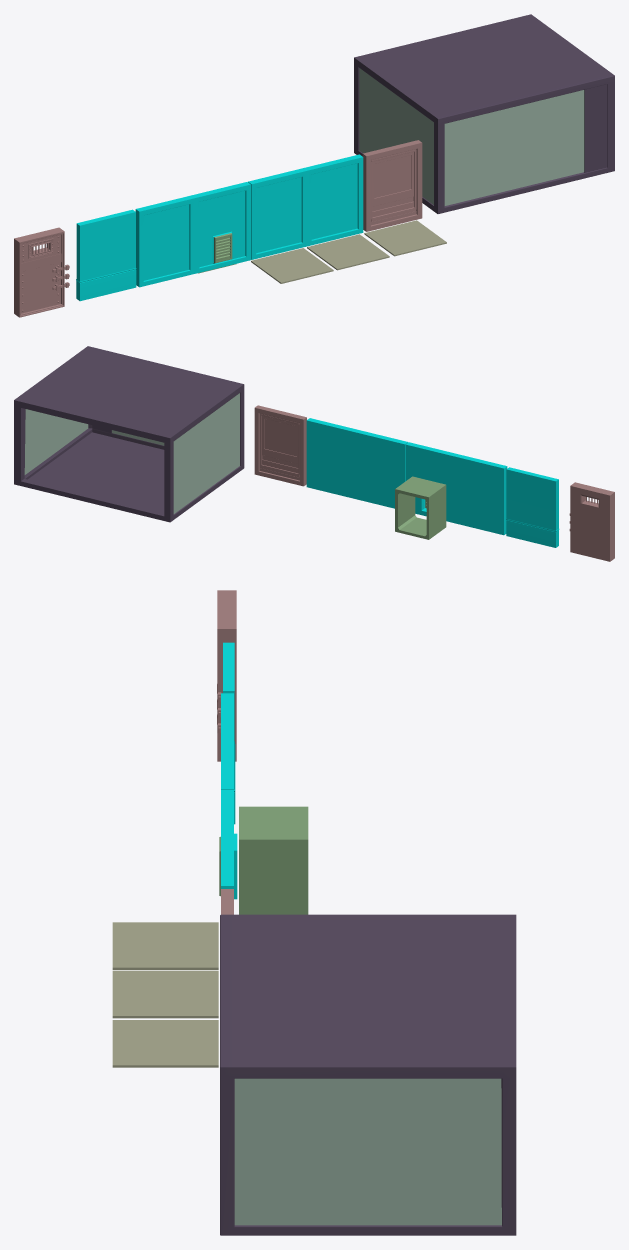
Rendered from FloorZero_Modulars.fbx.
3 views of the same model, one above another, from view 1: azimuth 30°, elevation 25°; view 2: azimuth 150°, elevation 25°; view 3: azimuth 270°, elevation 25° (orthographic). The views are drawn at different scales.
Visible parts, largest first — view 1: pCube20, pglass, pCube1, pCube5, pWall, PDoor, pCube11, pCube3, pCube10, pCube18, pCube17, pCube6; view 2: pCube20, pglass, pCube1, pCube5, pWall, PDoor, pCube7, pCube11, pCube3; view 3: pCube20, pglass, pCube7, pCube17, pCube10, pCube18, PDoor, pCube5, pCube1.
Part boxes in pixels (<box>): pCube20: <box>354,14,614,213</box>; pglass: <box>359,68,584,205</box>; pCube1: <box>248,154,363,259</box>; pCube5: <box>135,182,250,287</box>; pWall: <box>76,209,136,301</box>; PDoor: <box>14,227,64,317</box>; pCube11: <box>371,149,416,225</box>; pCube3: <box>362,140,422,231</box>; pCube10: <box>251,248,333,283</box>; pCube18: <box>364,220,446,256</box>; pCube17: <box>307,234,389,270</box>; pCube6: <box>214,233,232,263</box>; pCube20: <box>14,346,244,522</box>; pglass: <box>24,393,239,513</box>; pCube1: <box>306,418,408,508</box>; pCube5: <box>405,442,507,535</box>; pWall: <box>506,467,559,547</box>; PDoor: <box>570,482,614,561</box>; pCube7: <box>395,476,446,539</box>; pCube11: <box>259,413,299,480</box>; pCube3: <box>254,405,306,486</box>; pCube20: <box>220,914,516,1235</box>; pglass: <box>234,1078,501,1225</box>; pCube7: <box>239,806,308,914</box>; pCube17: <box>112,970,218,1018</box>; pCube10: <box>112,922,218,969</box>; pCube18: <box>112,1020,218,1067</box>; PDoor: <box>217,590,236,761</box>; pCube5: <box>221,693,237,899</box>; pCube1: <box>221,790,233,888</box>.
Size of the model in its own units: 80.53 by 13.07 by 26.76.
